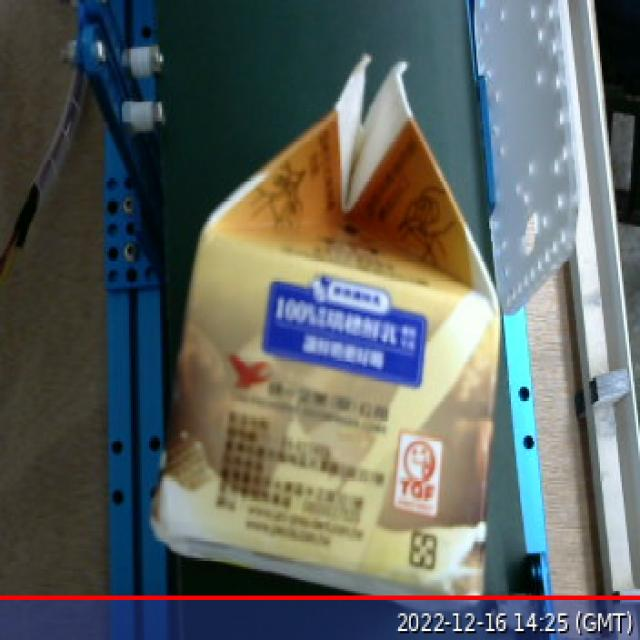non_white_jug: (101, 54, 526, 633)
